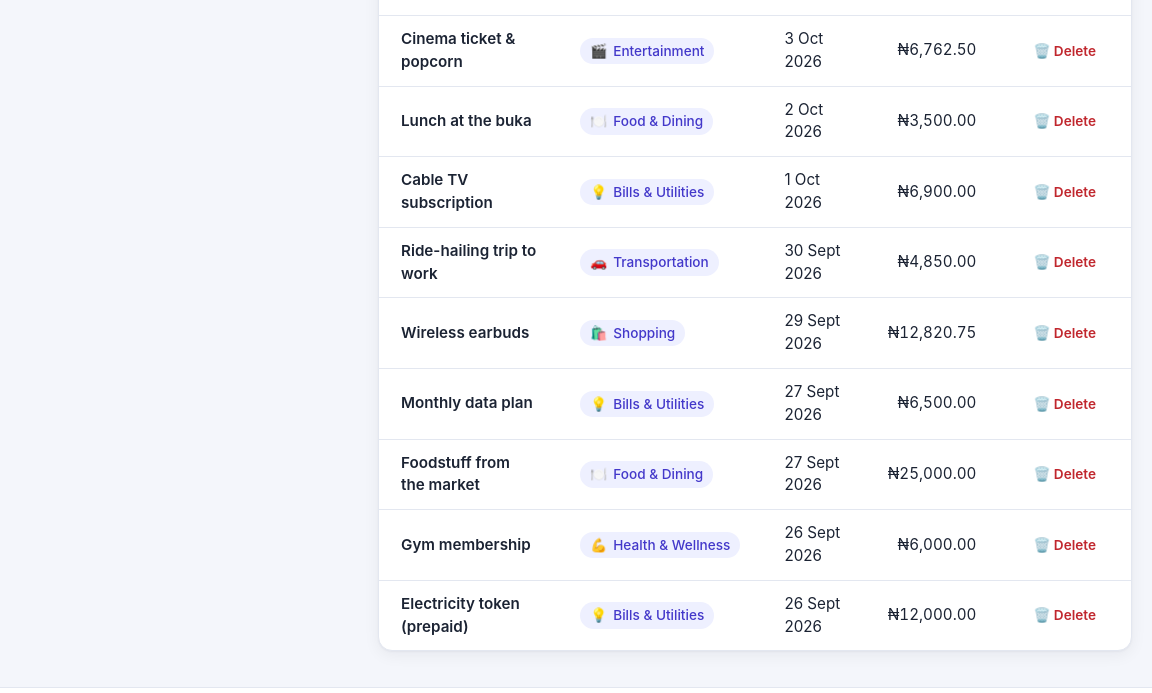
Test case: App › deleting an expense › removes the expense after confirmation and updates totals
(page scrolled)
Step 1. Click the button with aria-label "Delete Wireless earbuds" → click(1065, 333), box [1020, 316, 1109, 350]
(page scrolled)
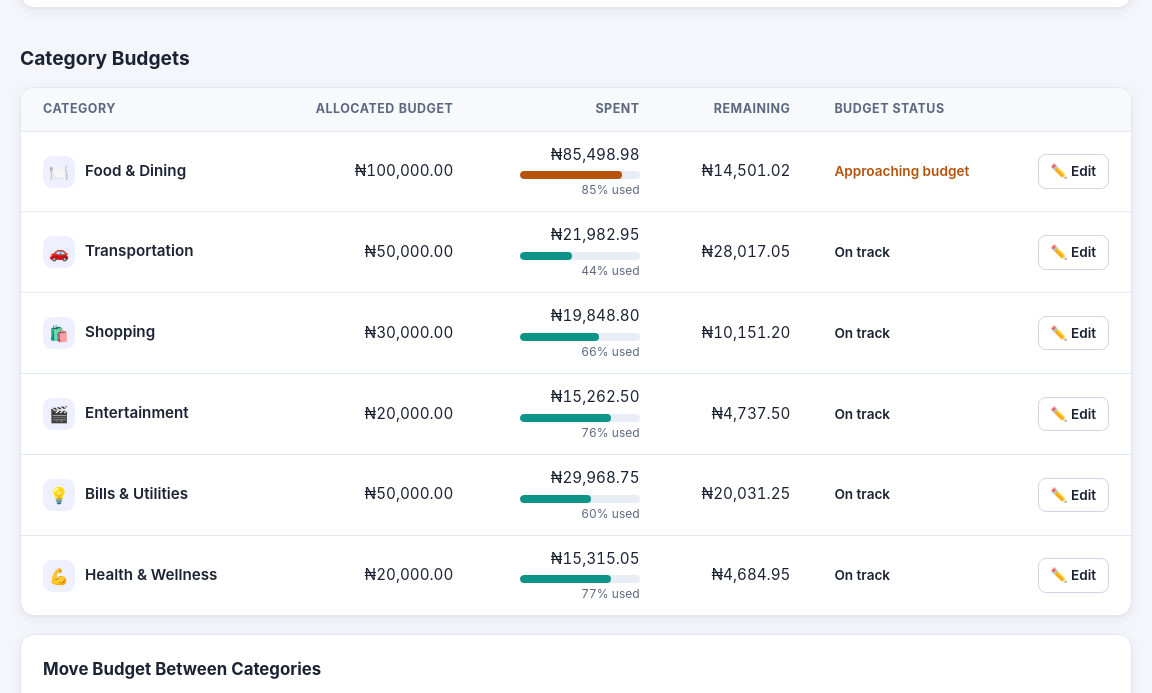
Expected: the column heading "Wireless earbuds" is gone
Expected: the text "₦19,848.80" is shown, [551, 306, 640, 325]
Expected: the text "₦10,151.20" is shown, [662, 293, 812, 374]
